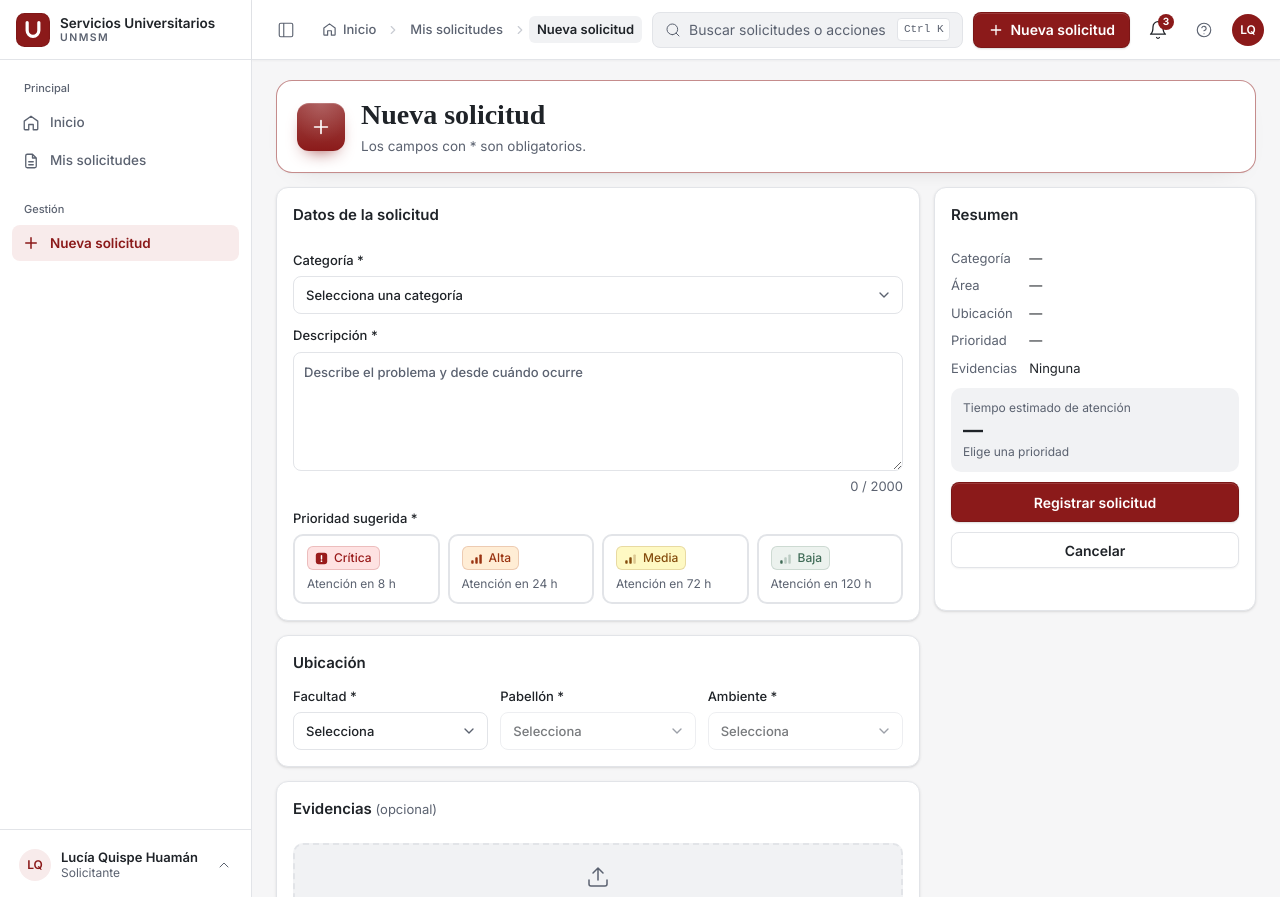
Test: Nueva solicitud › no envía el formulario si faltan datos obligatorios
Step 1. Click the button "Registrar solicitud" → [1095, 502], box [951,482,1239,522]
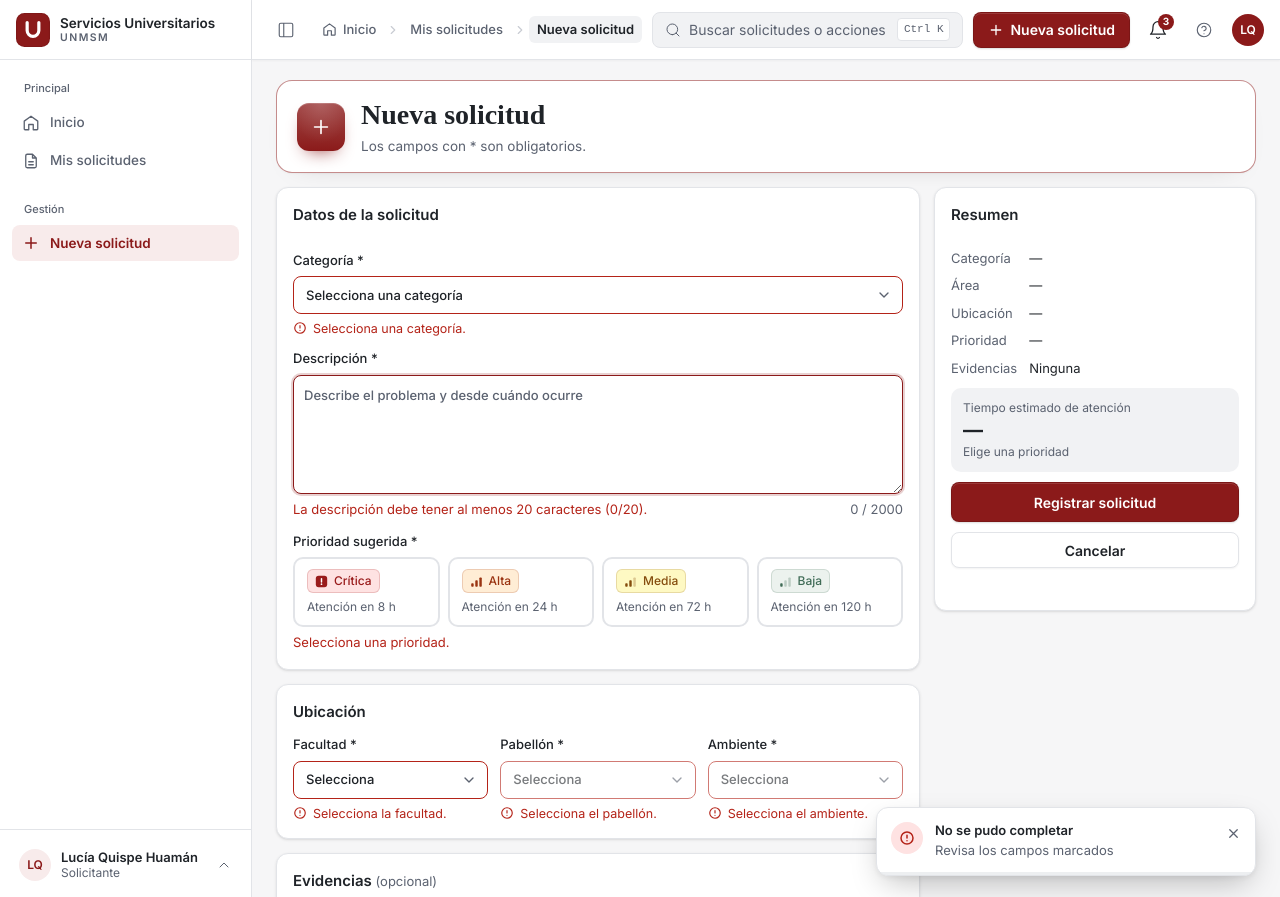
Expected: the text "Selecciona una categoría." is shown, [313,320,466,338]
Expected: the text "Selecciona la facultad." is shown, [313,805,446,822]
Expected: the text "Selecciona una prioridad." is shown, [293,634,450,650]
